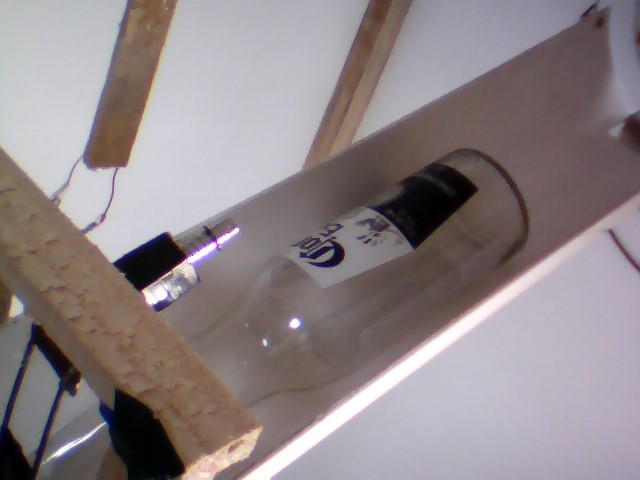vidrio: (175, 140, 537, 402)
